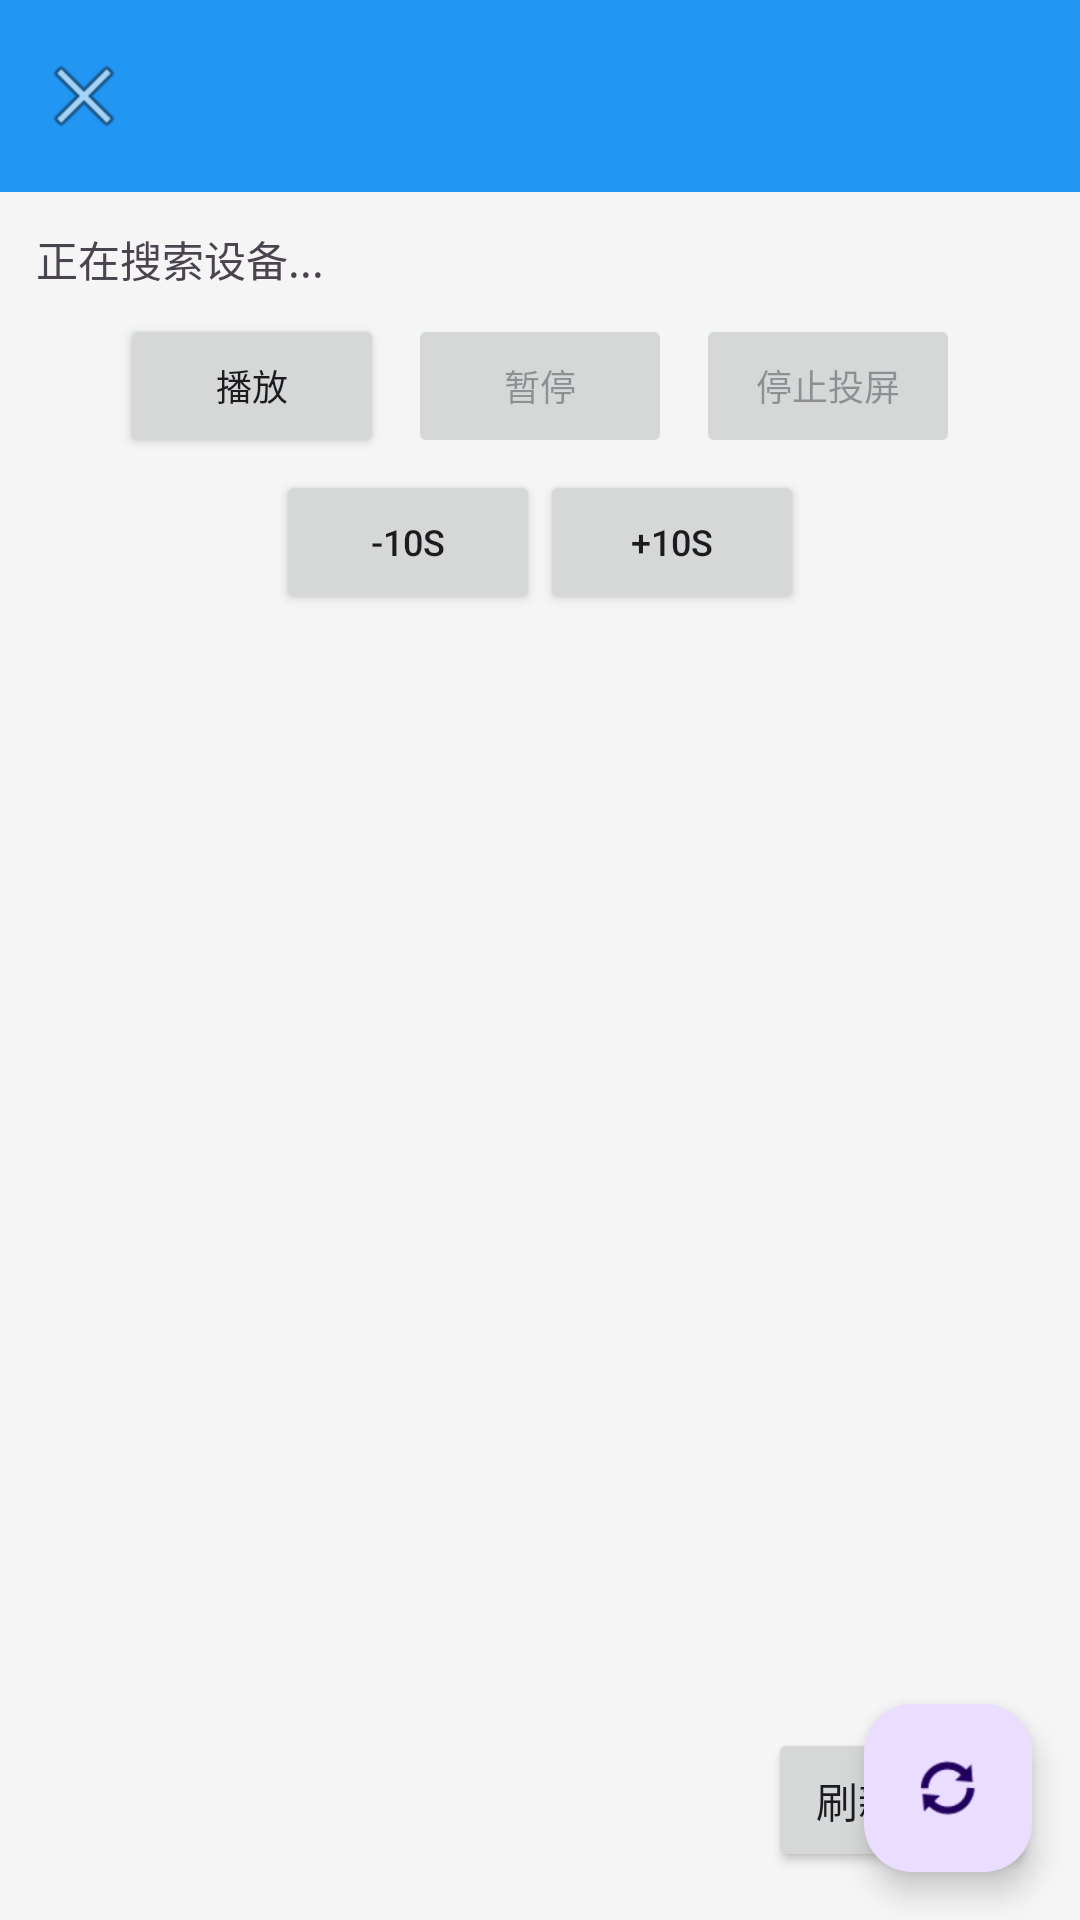

Point at icon controls on the screen. Image size 1080x1920, points as (x=x, y=y).
Refresh: (x=948, y=1788)
